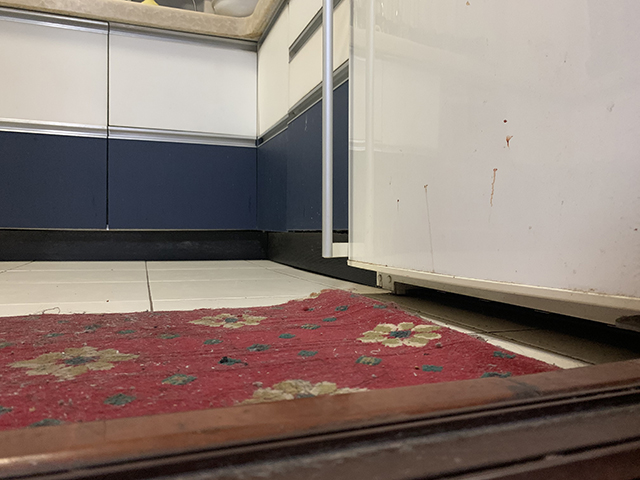cabinet: (2, 1, 267, 257)
carpet: (1, 288, 567, 432)
